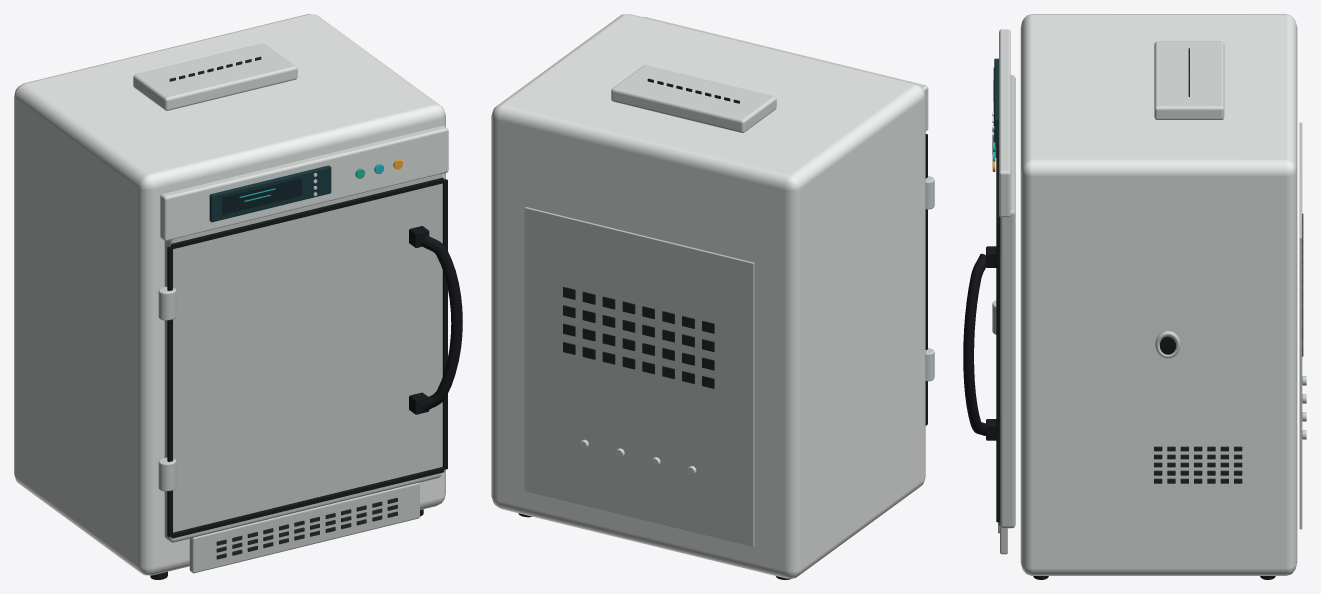
File: incubator.glb
3 views of the same model, side by side, from view 1: azimuth 30°, elevation 25°; view 2: azimuth 150°, elevation 25°; view 3: azimuth 270°, elevation 25° (orthographic). The views are drawn at different scales.
Visible parts, largest first — view 1: Runtime batch - Cool white instrument polymer, Runtime batch - Light instrument gray powder coat, Runtime batch - Light bead-blasted aluminum, Runtime batch - Black leveling-foot rubber, Runtime batch - Matte black coated handle, Runtime batch - Smoked control display, Runtime batch - Casework seam shadow, Runtime batch - Smoked instrument display glass, Runtime batch - Brushed analytical silver; view 2: Runtime batch - Cool white instrument polymer, Runtime batch - Light instrument gray powder coat, Runtime batch - Light bead-blasted aluminum, Runtime batch - Casework seam shadow, Runtime batch - Brushed analytical silver, Runtime batch - Black leveling-foot rubber; view 3: Runtime batch - Cool white instrument polymer, Runtime batch - Light bead-blasted aluminum, Runtime batch - Light instrument gray powder coat, Runtime batch - Matte black coated handle, Runtime batch - Casework seam shadow, Runtime batch - Black leveling-foot rubber, Runtime batch - Brushed analytical silver.
Part boxes in pixels (x1,y1,x2,y2): Runtime batch - Cool white instrument polymer: (14, 14, 445, 575); Runtime batch - Light instrument gray powder coat: (164, 174, 441, 573); Runtime batch - Light bead-blasted aluminum: (133, 43, 448, 241); Runtime batch - Black leveling-foot rubber: (150, 177, 447, 579); Runtime batch - Matte black coated handle: (409, 226, 462, 414); Runtime batch - Smoked control display: (209, 165, 331, 222); Runtime batch - Casework seam shadow: (169, 56, 397, 559); Runtime batch - Smoked instrument display glass: (222, 178, 301, 214); Runtime batch - Brushed analytical silver: (158, 286, 176, 491); Runtime batch - Cool white instrument polymer: (491, 14, 925, 578); Runtime batch - Light instrument gray powder coat: (524, 207, 754, 546); Runtime batch - Light bead-blasted aluminum: (611, 17, 928, 132); Runtime batch - Casework seam shadow: (563, 78, 739, 388); Runtime batch - Brushed analytical silver: (579, 176, 934, 475); Runtime batch - Black leveling-foot rubber: (518, 134, 927, 579); Runtime batch - Cool white instrument polymer: (1020, 14, 1297, 575); Runtime batch - Light bead-blasted aluminum: (992, 29, 1224, 217); Runtime batch - Light instrument gray powder coat: (999, 75, 1302, 554); Runtime batch - Matte black coated handle: (963, 246, 996, 440); Runtime batch - Casework seam shadow: (998, 48, 1303, 533); Runtime batch - Black leveling-foot rubber: (996, 146, 1275, 579); Runtime batch - Brushed analytical silver: (992, 125, 1306, 439).
Bounding box in the file's own units: 0.71 × 0.913 × 0.645.
